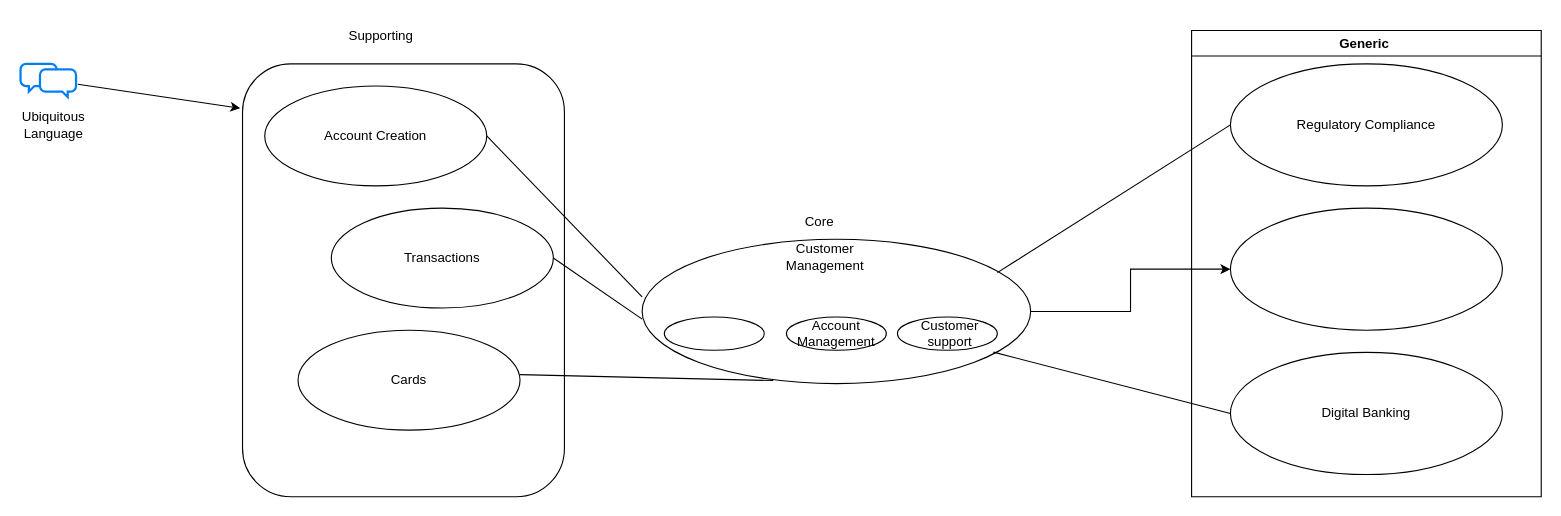
Some shapes in this 1561 by 516 pixel diagram are drawn without their labels. The centre of each missing label's shape, as x and y in pixels:
A/C opening: point 713,333
Forex: point 1365,268
